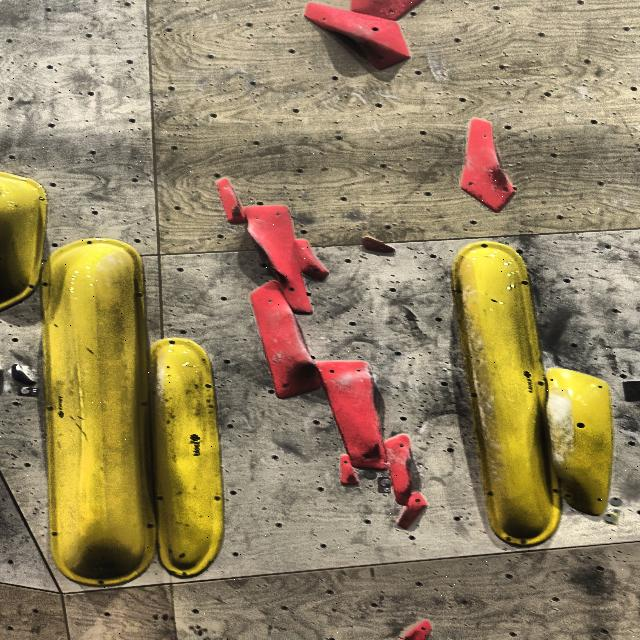Hold: (549, 368, 614, 515), (251, 282, 321, 399), (317, 361, 388, 470), (246, 206, 311, 313), (305, 3, 409, 69), (461, 119, 514, 212), (385, 435, 412, 507), (351, 0, 423, 21), (295, 240, 329, 280), (217, 179, 246, 224), (399, 492, 427, 529), (400, 620, 431, 640), (10, 363, 36, 386), (361, 236, 394, 254), (340, 456, 357, 486)
Macro: (41, 239, 157, 586), (452, 242, 562, 546), (149, 339, 223, 577), (0, 172, 46, 311)
start_tag: (603, 514, 615, 523), (610, 497, 622, 505), (380, 479, 390, 487), (364, 471, 375, 478), (21, 388, 31, 394)
